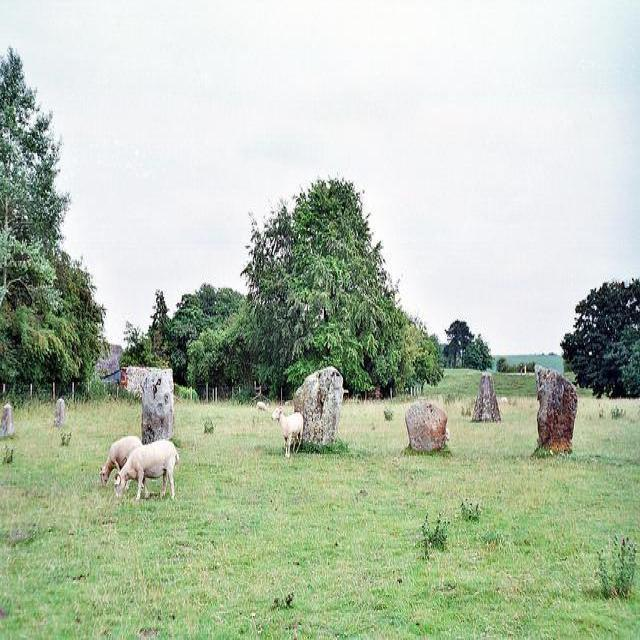Sheep: (114, 441, 179, 502), (100, 436, 145, 487), (271, 406, 304, 459)
